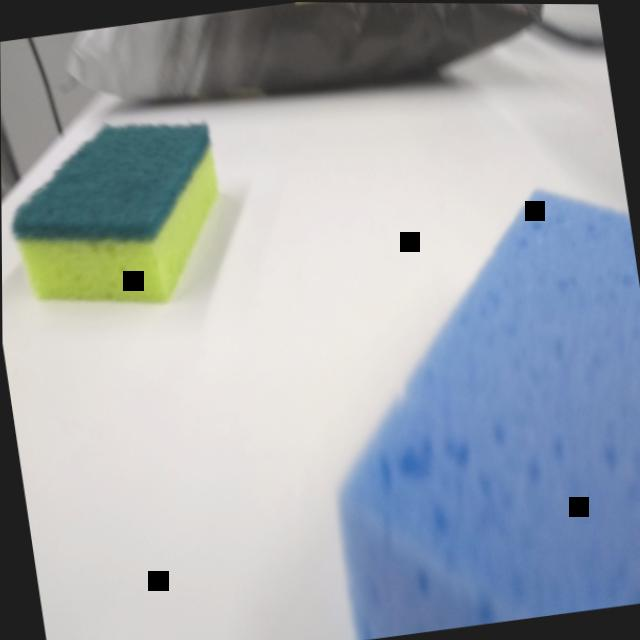scrubby: (1, 99, 247, 329)
